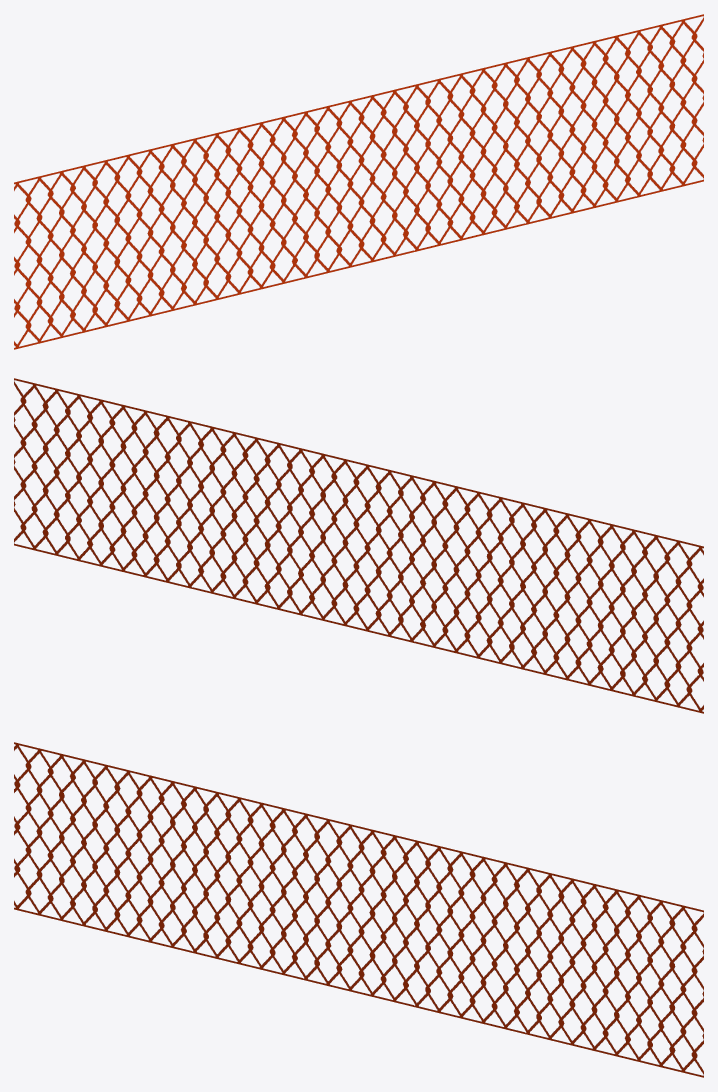
Rendered from orangeFencePeice_flat.fbx.
The picture shows the model from 3 angles, top to bottom: view 1: azimuth 30°, elevation 25°; view 2: azimuth 150°, elevation 25°; view 3: azimuth 330°, elevation 25°; orthographic projection.
Parts seen in each view (by area): view 1: Plane01, Duplicate05; view 2: Plane01, Duplicate05; view 3: Plane01, Duplicate05.
Part boxes in pixels (x1,y1,x2,y2): Plane01: (14, 14, 703, 349); Duplicate05: (14, 14, 703, 345); Plane01: (14, 378, 703, 713); Duplicate05: (14, 378, 703, 709); Plane01: (14, 742, 703, 1077); Duplicate05: (14, 743, 703, 1076).
Size of the model in its own units: 360 by 83.5 by 0.
